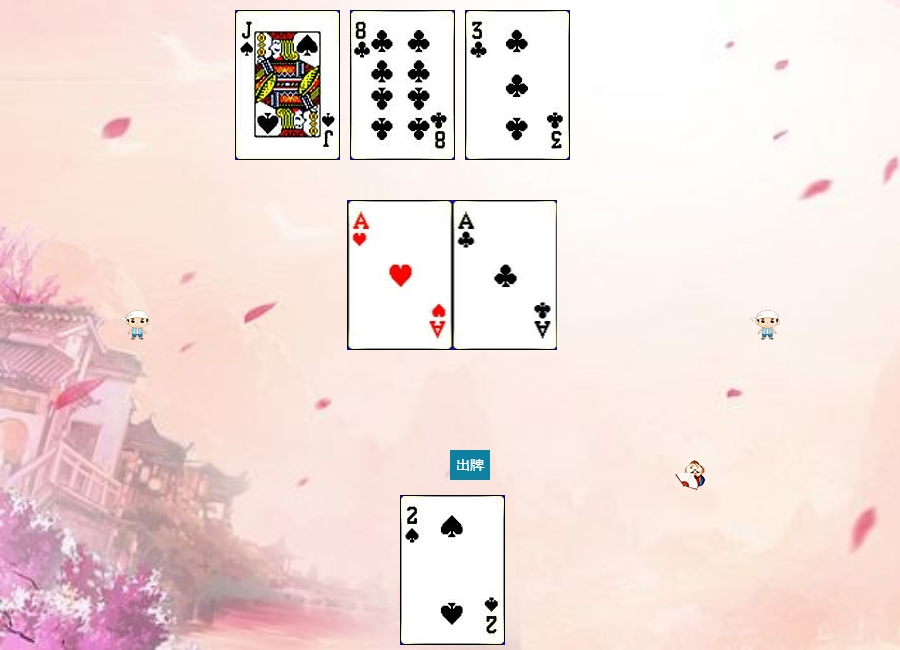11~4: (235, 10, 340, 160)
14~2: (453, 200, 558, 350)
14~3: (348, 200, 453, 350)
15~4: (400, 495, 505, 645)
3~2: (465, 10, 570, 160)
8~2: (350, 10, 455, 160)
